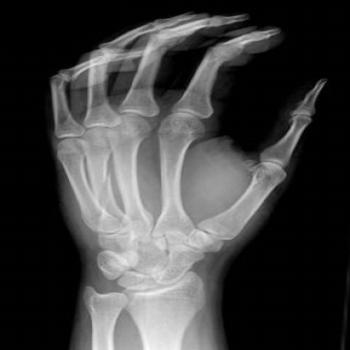Fracture: (94, 170, 112, 204)
